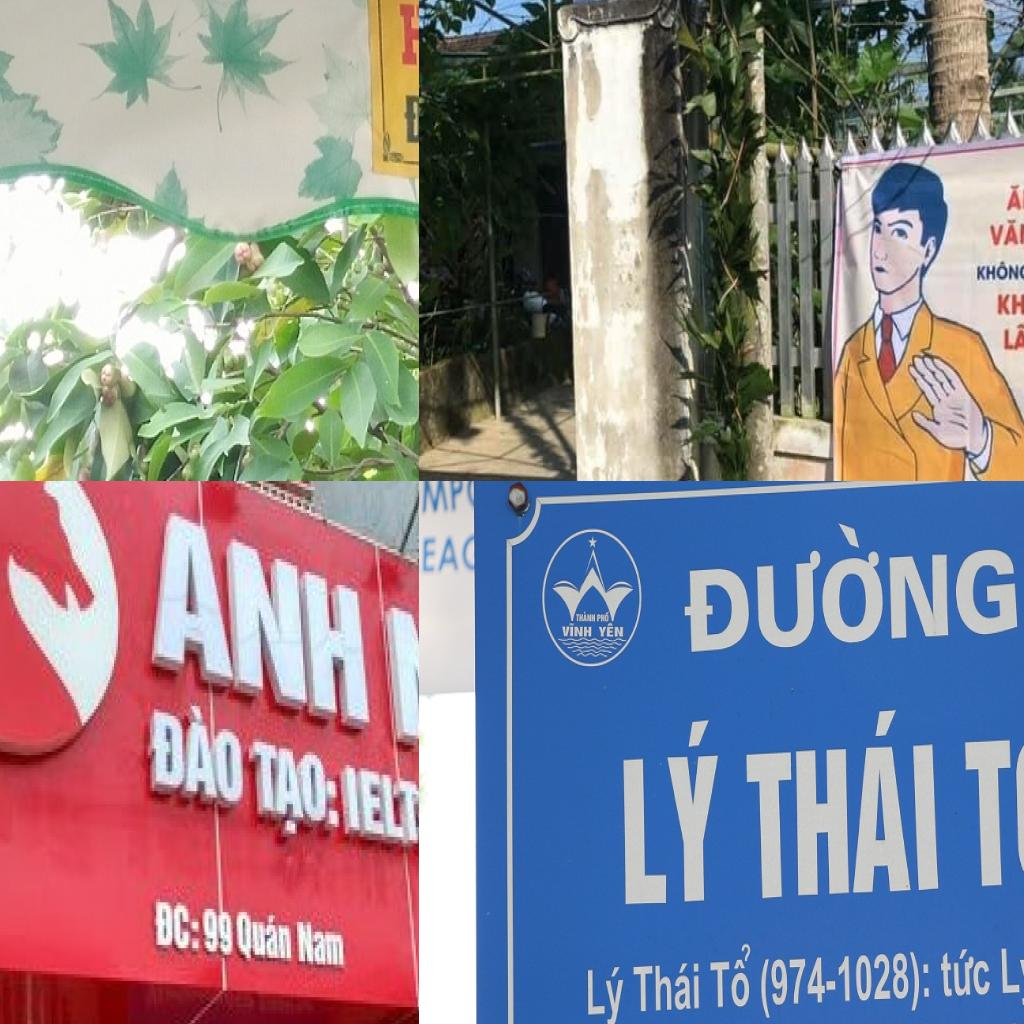text: (679, 506, 1024, 661), (150, 506, 374, 729), (744, 705, 942, 901), (620, 716, 725, 908), (961, 649, 1024, 888), (758, 948, 932, 1023), (148, 690, 247, 814), (251, 732, 345, 847), (343, 761, 419, 869), (632, 961, 701, 1016), (235, 906, 295, 968), (709, 942, 753, 1011), (295, 919, 347, 974), (940, 947, 992, 1001), (154, 899, 203, 955), (586, 965, 627, 1024), (419, 530, 463, 578), (202, 902, 236, 962), (419, 481, 466, 521), (1000, 942, 1024, 1008), (985, 215, 1024, 249), (975, 258, 1024, 285), (401, 87, 419, 151), (996, 290, 1024, 319), (1001, 319, 1024, 354), (1003, 181, 1024, 214), (561, 622, 593, 639), (597, 621, 625, 639), (575, 610, 597, 624), (596, 609, 610, 625)
